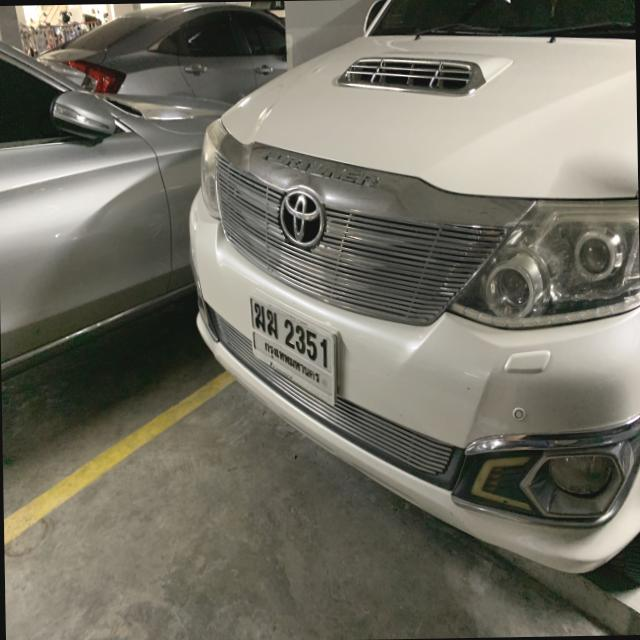license_plate: (246, 288, 338, 410)
